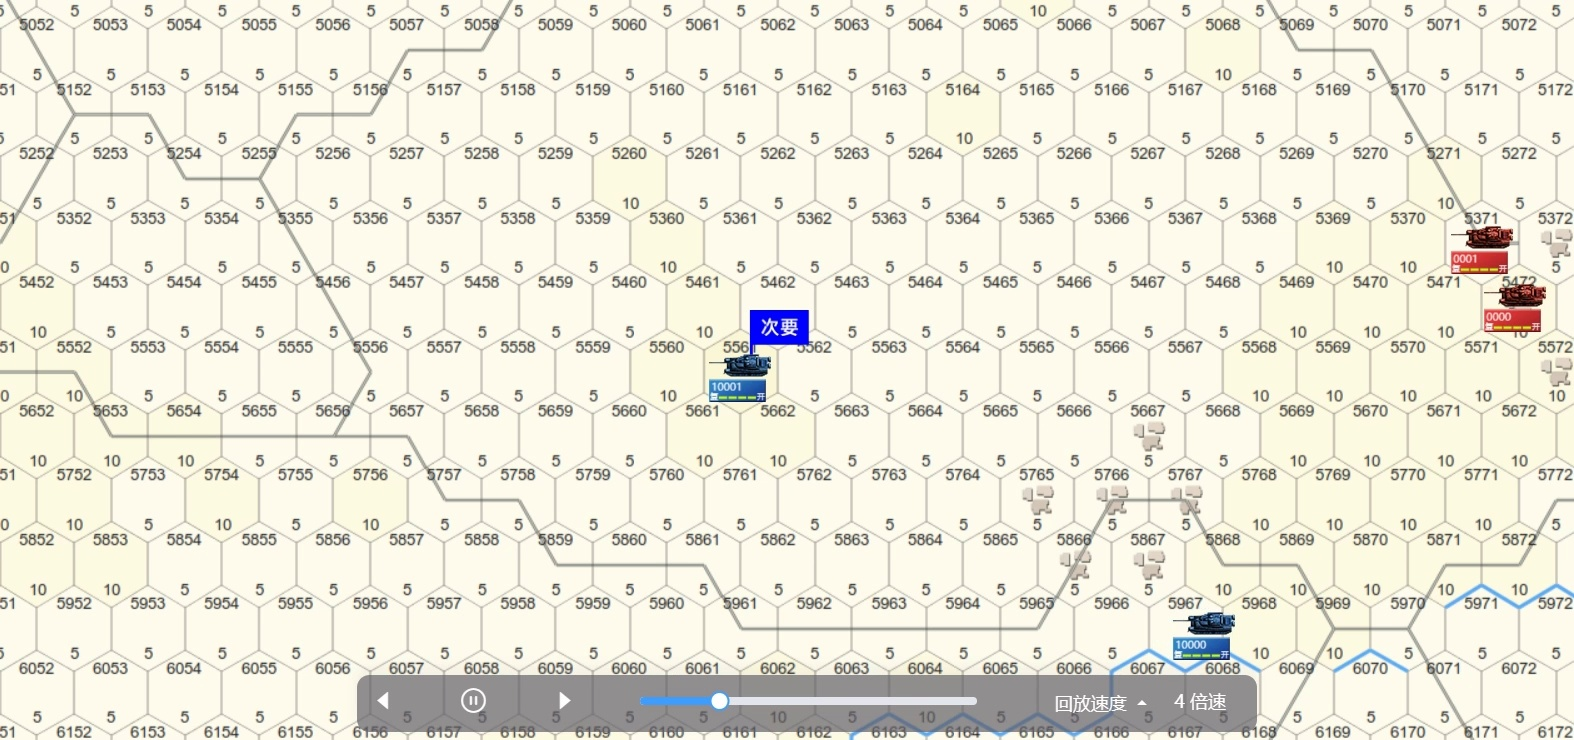blue_tank: (1175, 604, 1243, 659), (716, 352, 771, 399)
red_tank: (1449, 225, 1521, 276), (1487, 280, 1554, 333)
